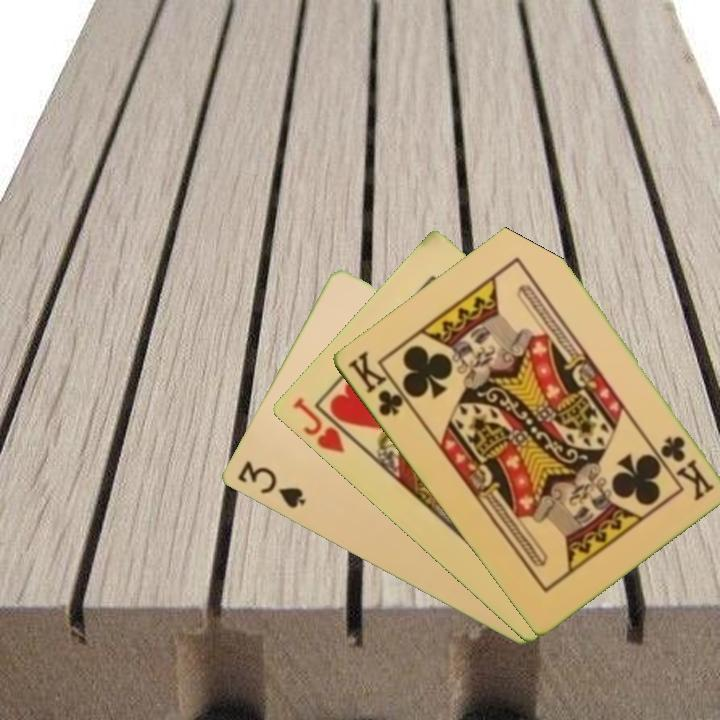3s: (233, 457, 308, 512)
Jh: (288, 394, 347, 456)
Kc: (344, 347, 414, 420), (657, 432, 717, 502)
